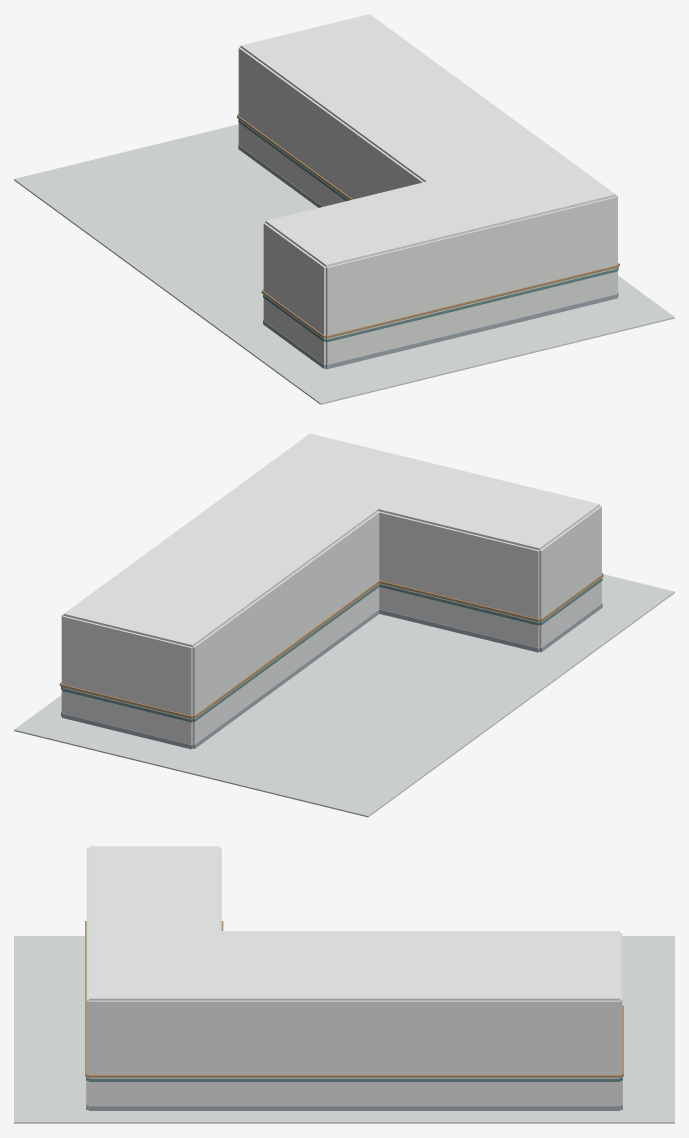
The model's file is grady-ground.glb.
The picture shows the model from 3 angles, top to bottom: view 1: azimuth 30°, elevation 25°; view 2: azimuth 150°, elevation 25°; view 3: azimuth 270°, elevation 25°; orthographic projection. The views are drawn at different scales.
Parts seen in each view (by area): view 1: Cafeteria floor, Ceiling panel (×2), Corridor wall 0, Corridor wall 3, Corridor wall 5, Skirting 0, Wall protection 0, Handrail 0; view 2: Cafeteria floor, Ceiling panel (×2), Corridor wall 3, Corridor wall 4, Corridor wall 2, Corridor wall 5, Skirting 3, Skirting 4, Handrail 3, Wall protection 3, Skirting 2, Wall protection 4; view 3: Corridor wall 1, Ceiling panel (×2), Cafeteria floor, Skirting 1, Wall protection 1, Handrail 1, Corridor wall 0, Corridor wall 2.
Boxes of the visible parts, box(x1,y1,x2,y2) form: Cafeteria floor: box(14, 124, 674, 404); Ceiling panel (×2): box(240, 14, 615, 266); Corridor wall 0: box(326, 196, 616, 364); Corridor wall 3: box(238, 47, 423, 206); Corridor wall 5: box(263, 223, 325, 364); Skirting 0: box(326, 294, 617, 369); Wall protection 0: box(326, 268, 617, 342); Handrail 0: box(325, 264, 618, 338); Cafeteria floor: box(14, 574, 674, 817); Ceiling panel (×2): box(63, 433, 599, 646); Corridor wall 3: box(192, 511, 379, 744); Corridor wall 4: box(379, 511, 539, 647); Corridor wall 2: box(62, 616, 192, 744); Corridor wall 5: box(539, 506, 601, 647); Skirting 3: box(192, 609, 379, 748); Skirting 4: box(379, 609, 539, 652); Handrail 3: box(193, 580, 379, 718); Wall protection 3: box(192, 584, 379, 721); Skirting 2: box(62, 713, 192, 749); Wall protection 4: box(379, 584, 539, 625); Corridor wall 1: box(89, 1000, 619, 1106); Ceiling panel (×2): box(89, 846, 619, 1000); Cafeteria floor: box(14, 936, 674, 1123); Skirting 1: box(88, 1105, 620, 1110); Wall protection 1: box(88, 1078, 620, 1081); Handrail 1: box(87, 1074, 621, 1077); Corridor wall 0: box(86, 848, 88, 1104); Corridor wall 2: box(620, 933, 622, 1104).
Size of the model in its own units: 22 by 6.2 by 33.
